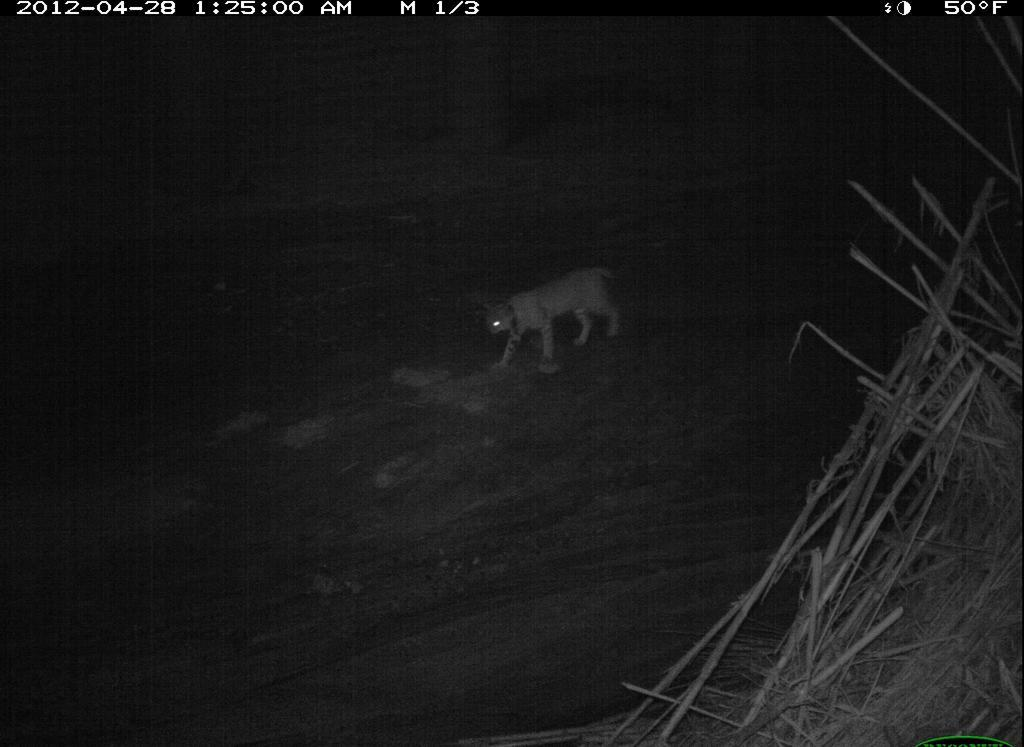bobcat: (477, 262, 635, 376)
